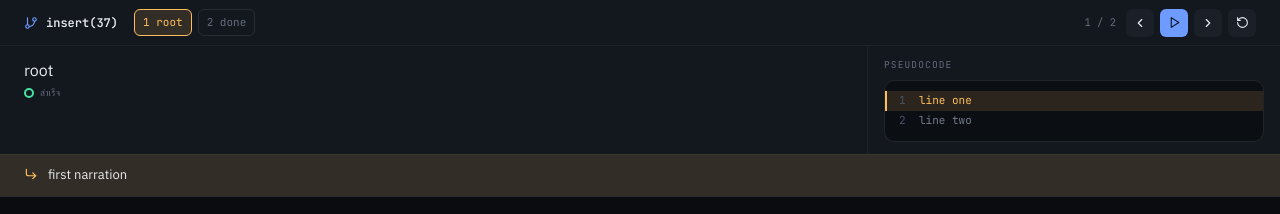
Stage › advances the diagram and narration when a step chip is clicked
Click the button "2 done": (226, 23) [198,9,255,36]
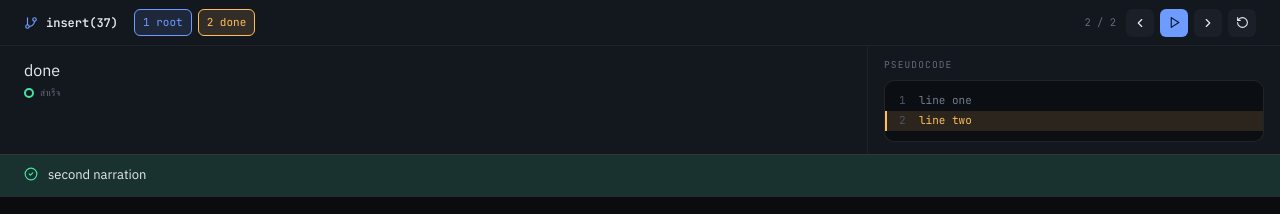
Check: the text with test id "diagram" reads "done", box [24,60,60,80]
Check: the text "second narration" is shown, box [48,165,146,186]
